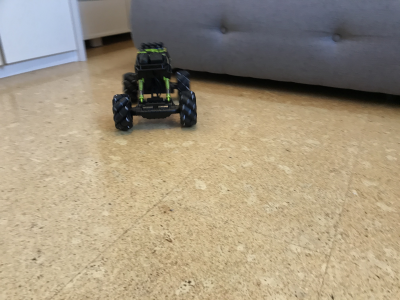remote control car: (108, 39, 201, 133)
